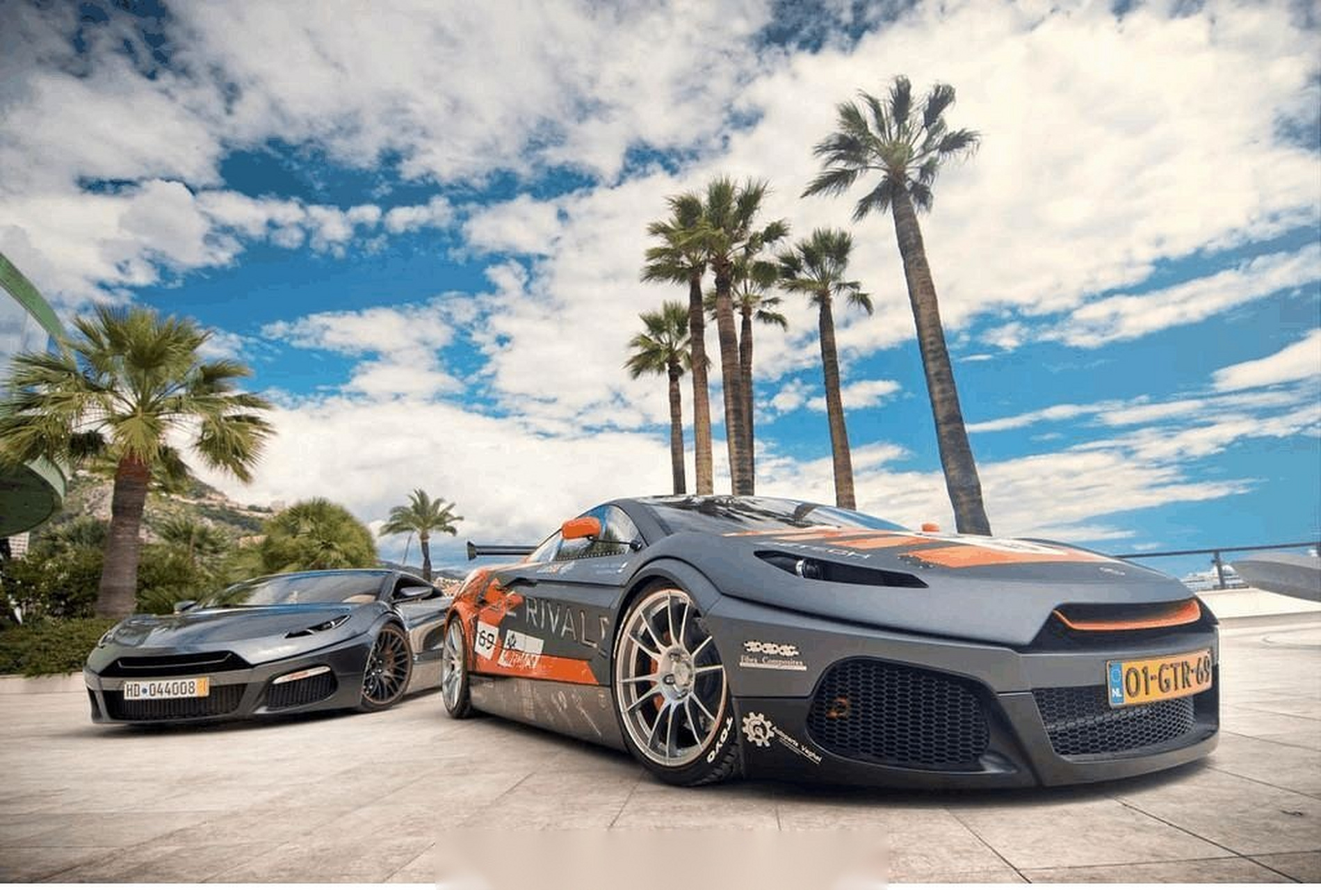other: (439, 476, 1228, 791), (76, 558, 494, 713)
